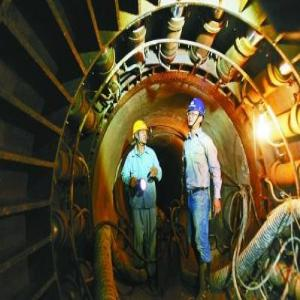blue: (186, 96, 207, 132)
yellow: (132, 117, 150, 148)
